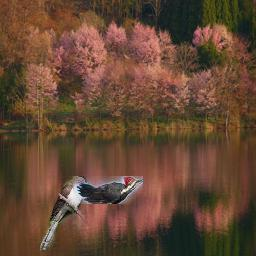Cuckoo: (39, 177, 89, 252)
Woodpecker: (75, 176, 143, 204)
